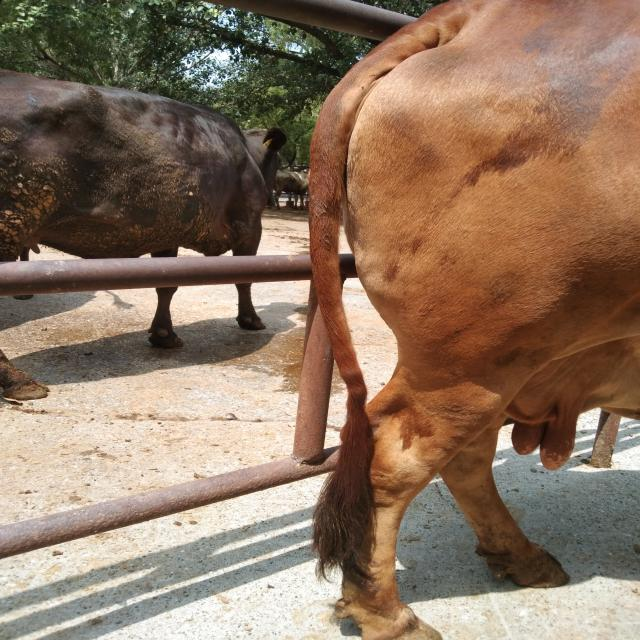Hoof: (147, 328, 183, 348), (236, 314, 266, 330)
